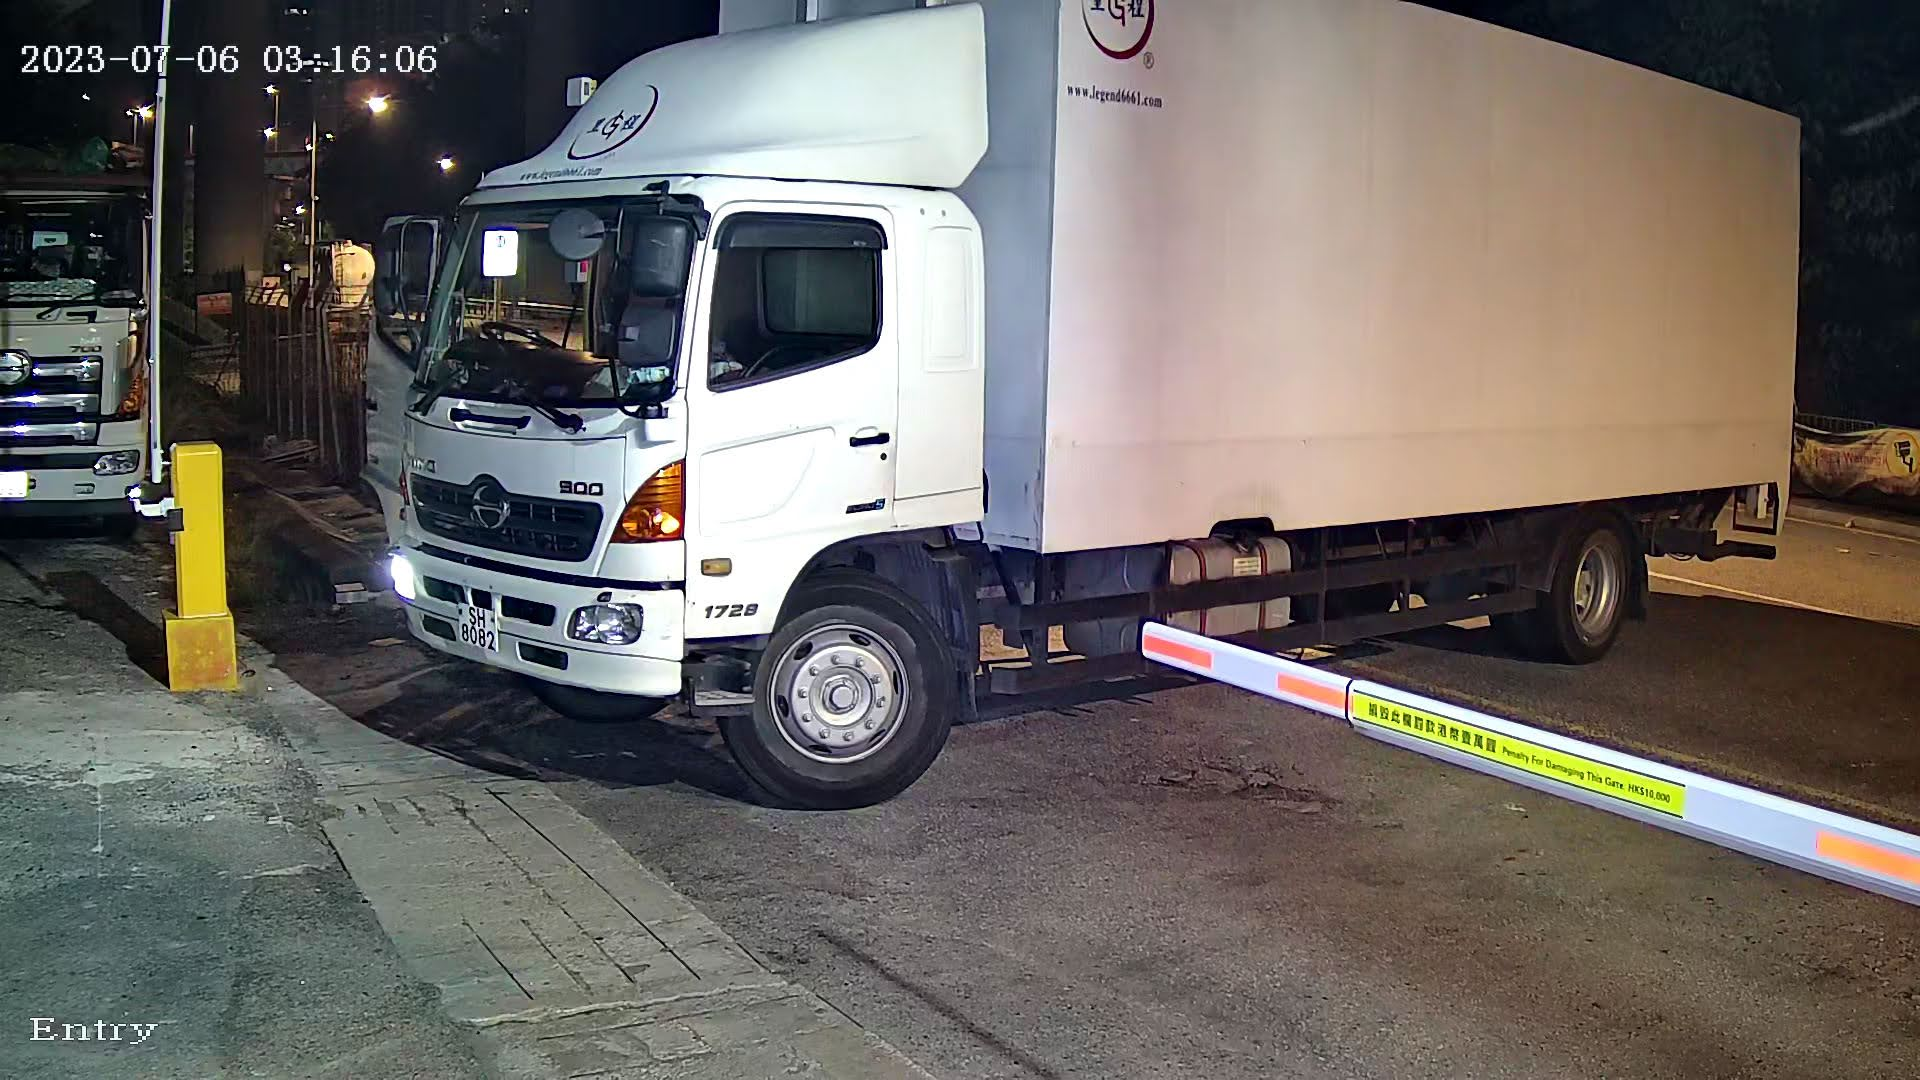truck_large: (320, 1, 1851, 829)
